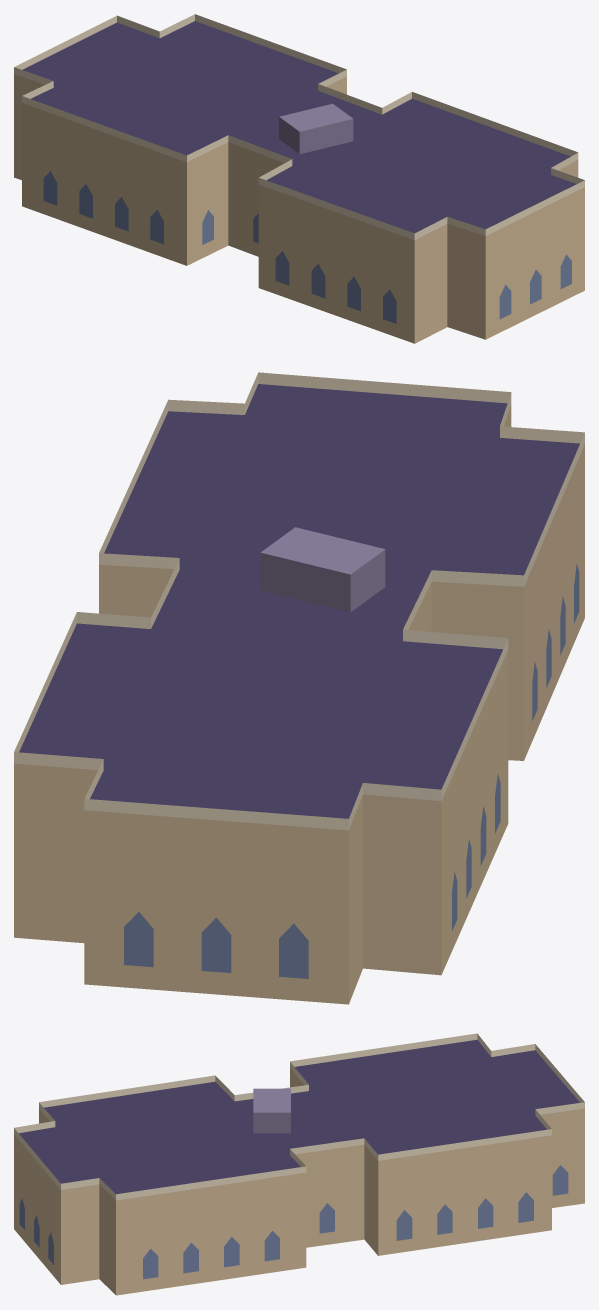
File: b-116-day.glb
3 renders of one model, top to bottom at view 1: azimuth 30°, elevation 25°; view 2: azimuth 150°, elevation 25°; view 3: azimuth 270°, elevation 25°, orthographic. The views are drawn at different scales.
Parts seen in each view (by area): view 1: campus/b-116-day-0; view 2: campus/b-116-day-0; view 3: campus/b-116-day-0.
Boxes of the visible parts, <box> form: campus/b-116-day-0: <box>14,14,584,343</box>; campus/b-116-day-0: <box>14,372,584,1004</box>; campus/b-116-day-0: <box>14,1033,584,1295</box>.
Size of the model in its own units: 30.14 by 10.1 by 45.21.
